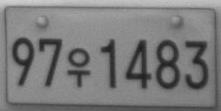1: (98, 37, 123, 87)
3: (184, 39, 209, 90)
4: (124, 38, 152, 89)
7: (38, 37, 63, 86)
8: (155, 39, 180, 89)
9: (11, 35, 35, 86)
우: (66, 46, 91, 87)
